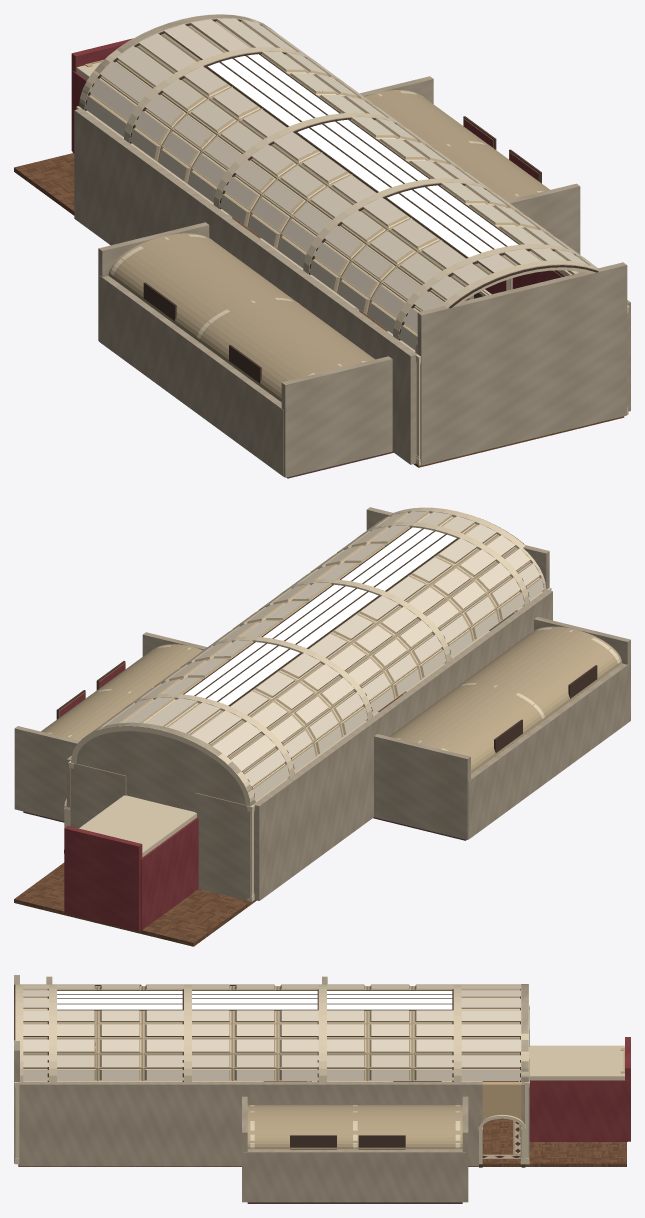
File: gallery.glb
3 views of the same model, one above another, from view 1: azimuth 30°, elevation 25°; view 2: azimuth 150°, elevation 25°; view 3: azimuth 270°, elevation 25° (orthographic). The views are drawn at different scales.
Visible parts, largest first — view 1: Limestone, Coffer, Vault, Trim, Skylight, Window Metal, Deep Stone, Parquet, Warm Plaster; view 2: Limestone, Coffer, Vault, Trim, Warm Plaster, Skylight, Parquet, Window Metal, Deep Stone; view 3: Limestone, Coffer, Vault, Trim, Skylight, Warm Plaster, Parquet, Window Metal, Deep Stone, Alcove Stone, Porphyry, Floor Inlay.
Part boxes in pixels (x1=…): Limestone: x1=74, y1=14, x2=630, y2=477; Coffer: x1=84, y1=18, x2=597, y2=350; Vault: x1=87, y1=19, x2=591, y2=401; Trim: x1=76, y1=14, x2=629, y2=465; Skylight: x1=208, y1=54, x2=518, y2=257; Window Metal: x1=206, y1=53, x2=520, y2=258; Deep Stone: x1=85, y1=19, x2=598, y2=383; Parquet: x1=14, y1=153, x2=624, y2=467; Warm Plaster: x1=71, y1=38, x2=564, y2=294; Limestone: x1=14, y1=507, x2=630, y2=900; Coffer: x1=92, y1=511, x2=543, y2=800; Vault: x1=41, y1=511, x2=622, y2=800; Trim: x1=47, y1=507, x2=620, y2=901; Warm Plaster: x1=59, y1=663, x2=198, y2=931; Skylight: x1=184, y1=527, x2=456, y2=705; Parquet: x1=14, y1=693, x2=403, y2=946; Window Metal: x1=183, y1=527, x2=458, y2=706; Deep Stone: x1=56, y1=519, x2=597, y2=853; Limestone: x1=14, y1=975, x2=529, y2=1202; Coffer: x1=23, y1=984, x2=520, y2=1080; Vault: x1=23, y1=984, x2=520, y2=1149; Trim: x1=14, y1=984, x2=624, y2=1164; Skylight: x1=57, y1=991, x2=452, y2=1009; Warm Plaster: x1=529, y1=1037, x2=630, y2=1141; Parquet: x1=18, y1=1055, x2=626, y2=1166; Window Metal: x1=57, y1=990, x2=452, y2=1010; Deep Stone: x1=14, y1=984, x2=525, y2=1167; Alcove Stone: x1=482, y1=1048, x2=624, y2=1140; Porphyry: x1=95, y1=1049, x2=518, y2=1203; Floor Inlay: x1=482, y1=1120, x2=520, y2=1159.
Bounding box in the file's own units: 21.94 × 8.67 × 36.6.
Materials: 16 (5 with a texture image).
